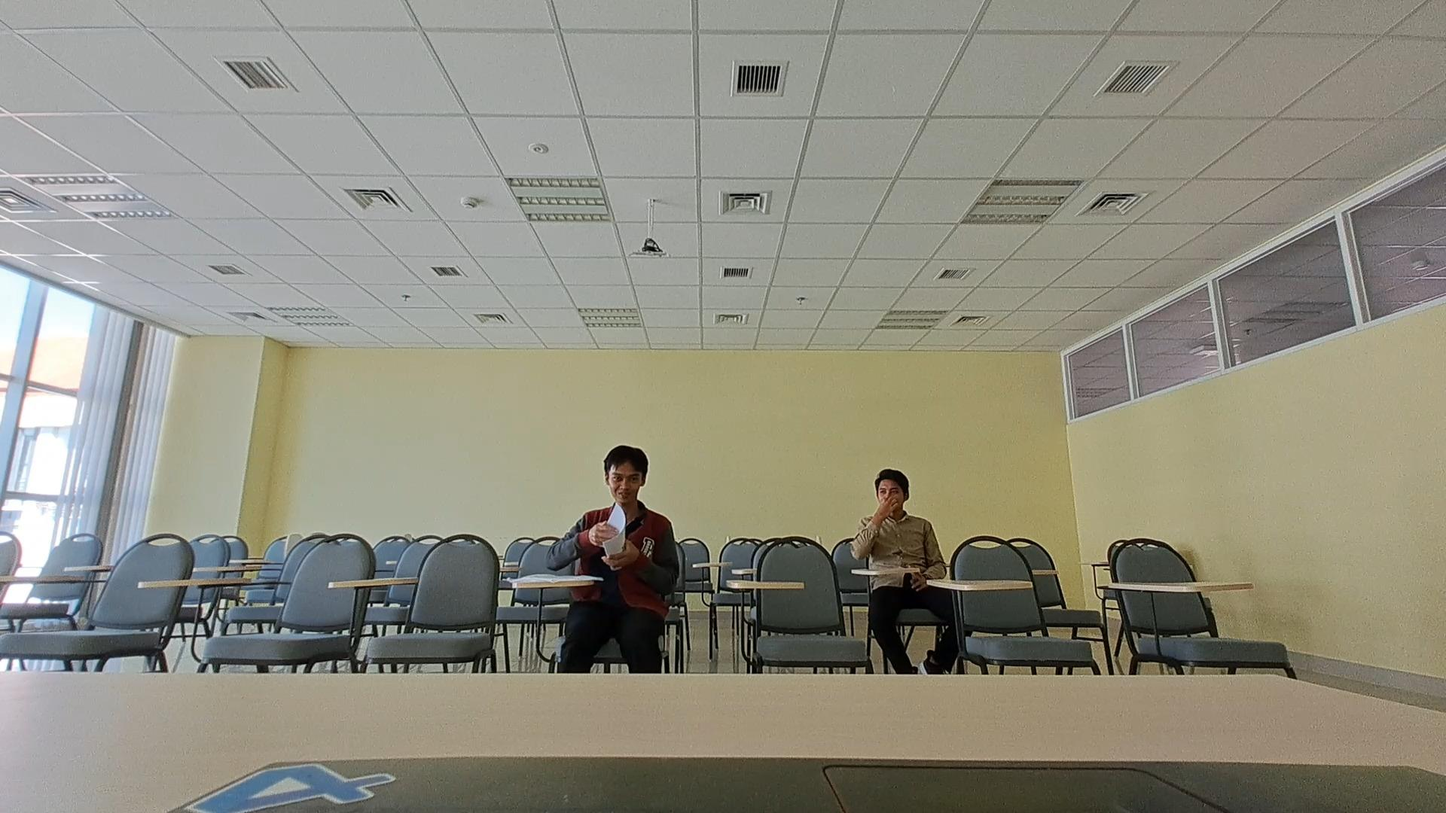study: (552, 444, 678, 580), (853, 471, 943, 573)
